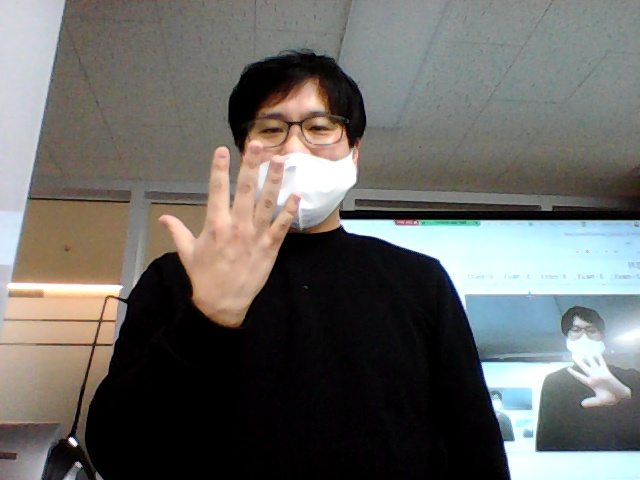five: (154, 135, 313, 325), (558, 346, 634, 415)
